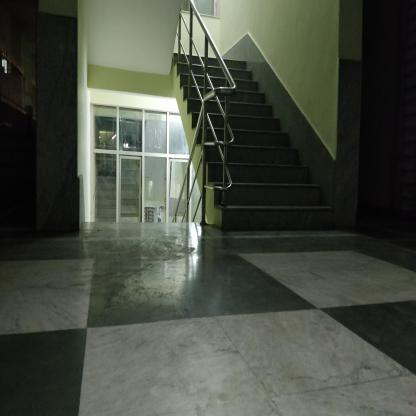stairs: (236, 128, 291, 234)
